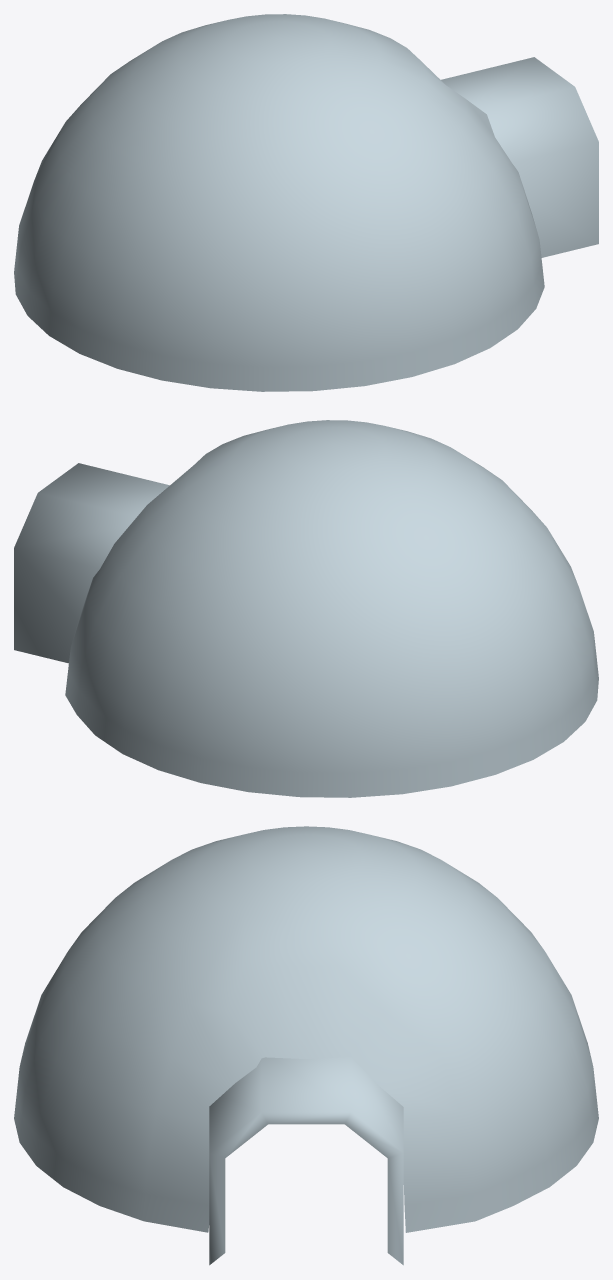
File: iglo.fbx
3 views of the same model, one above another, from view 1: azimuth 30°, elevation 25°; view 2: azimuth 150°, elevation 25°; view 3: azimuth 270°, elevation 25° (orthographic). The views are drawn at different scales.
Parts seen in each view (by area): view 1: Sphere; view 2: Sphere; view 3: Sphere.
Part boxes in pixels (bbox=[...]): Sphere: bbox=[14, 14, 598, 391]; Sphere: bbox=[14, 420, 598, 797]; Sphere: bbox=[14, 826, 598, 1265].
Bounding box in the file's own units: 4392 × 2000 × 4000.
